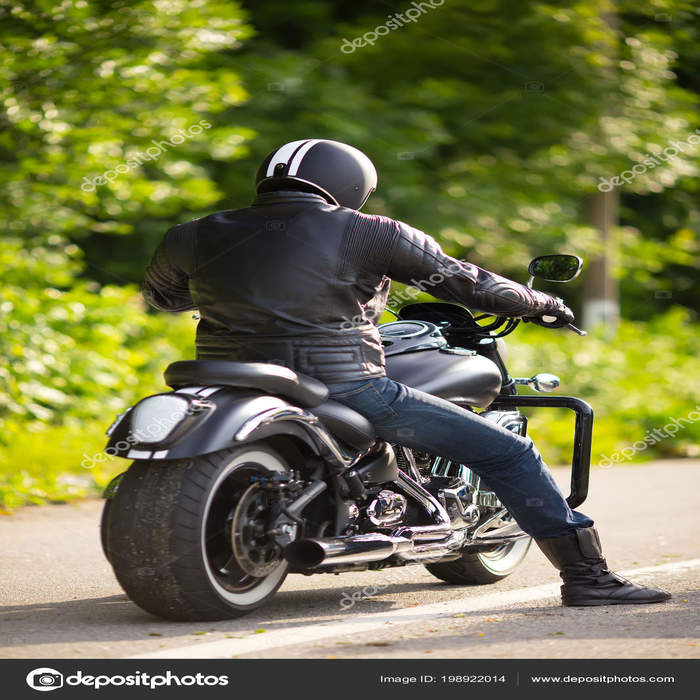h: (245, 134, 383, 214)
